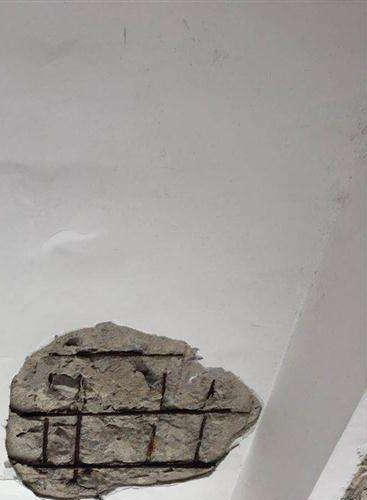Exposed reinforcement: (8, 403, 232, 422), (7, 455, 218, 470), (146, 372, 168, 459), (193, 379, 215, 462), (48, 350, 185, 358), (71, 410, 83, 485), (41, 417, 50, 464)
Spalling: (1, 320, 264, 500)
